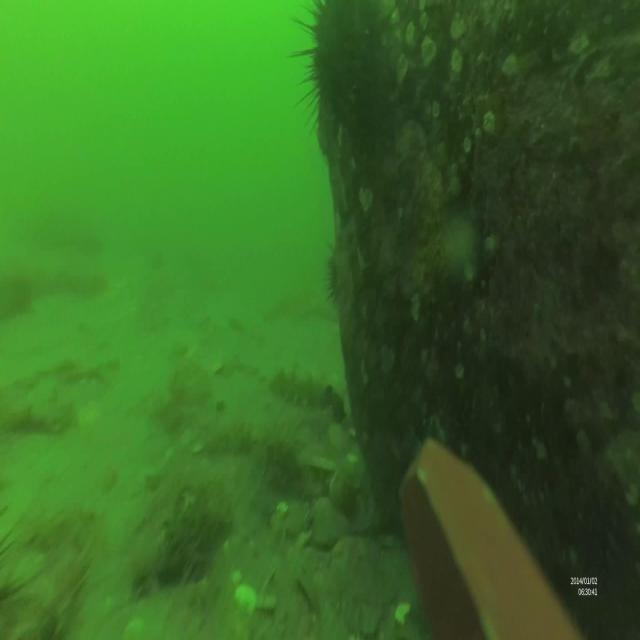echinus: (282, 2, 382, 138), (323, 239, 366, 317)
holothurian: (268, 364, 335, 414)
